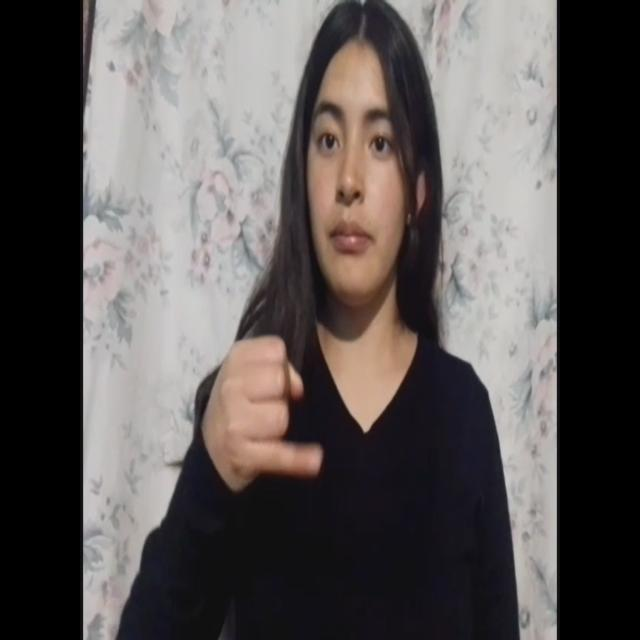J: (200, 305, 338, 527)
